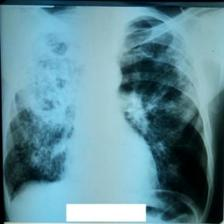tuberculosis: (0, 5, 214, 224)
